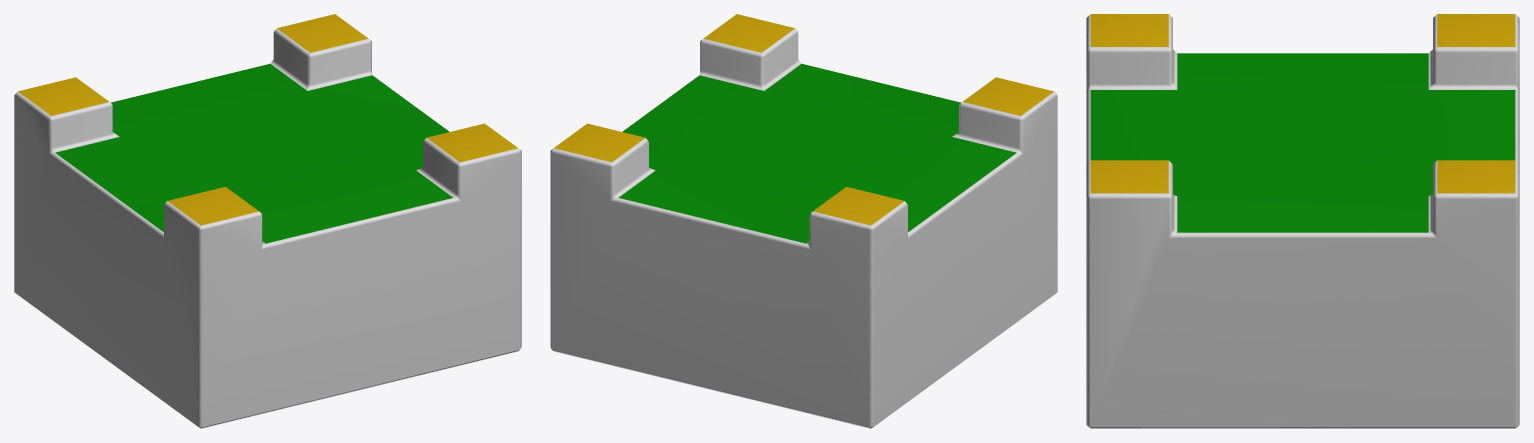
The model's file is StartingPlatform.glb.
3 views of the same model, side by side, from view 1: azimuth 30°, elevation 25°; view 2: azimuth 150°, elevation 25°; view 3: azimuth 270°, elevation 25° (orthographic). The views are drawn at different scales.
Visible parts, largest first — view 1: skyisland; view 2: skyisland; view 3: skyisland.
Boxes of the visible parts, box(x1,y1,x2,y2) form: skyisland: box(14, 14, 521, 428); skyisland: box(550, 14, 1057, 428); skyisland: box(1086, 14, 1519, 428).
Bounding box in the file's own units: 3.94 × 2.36 × 3.94.
